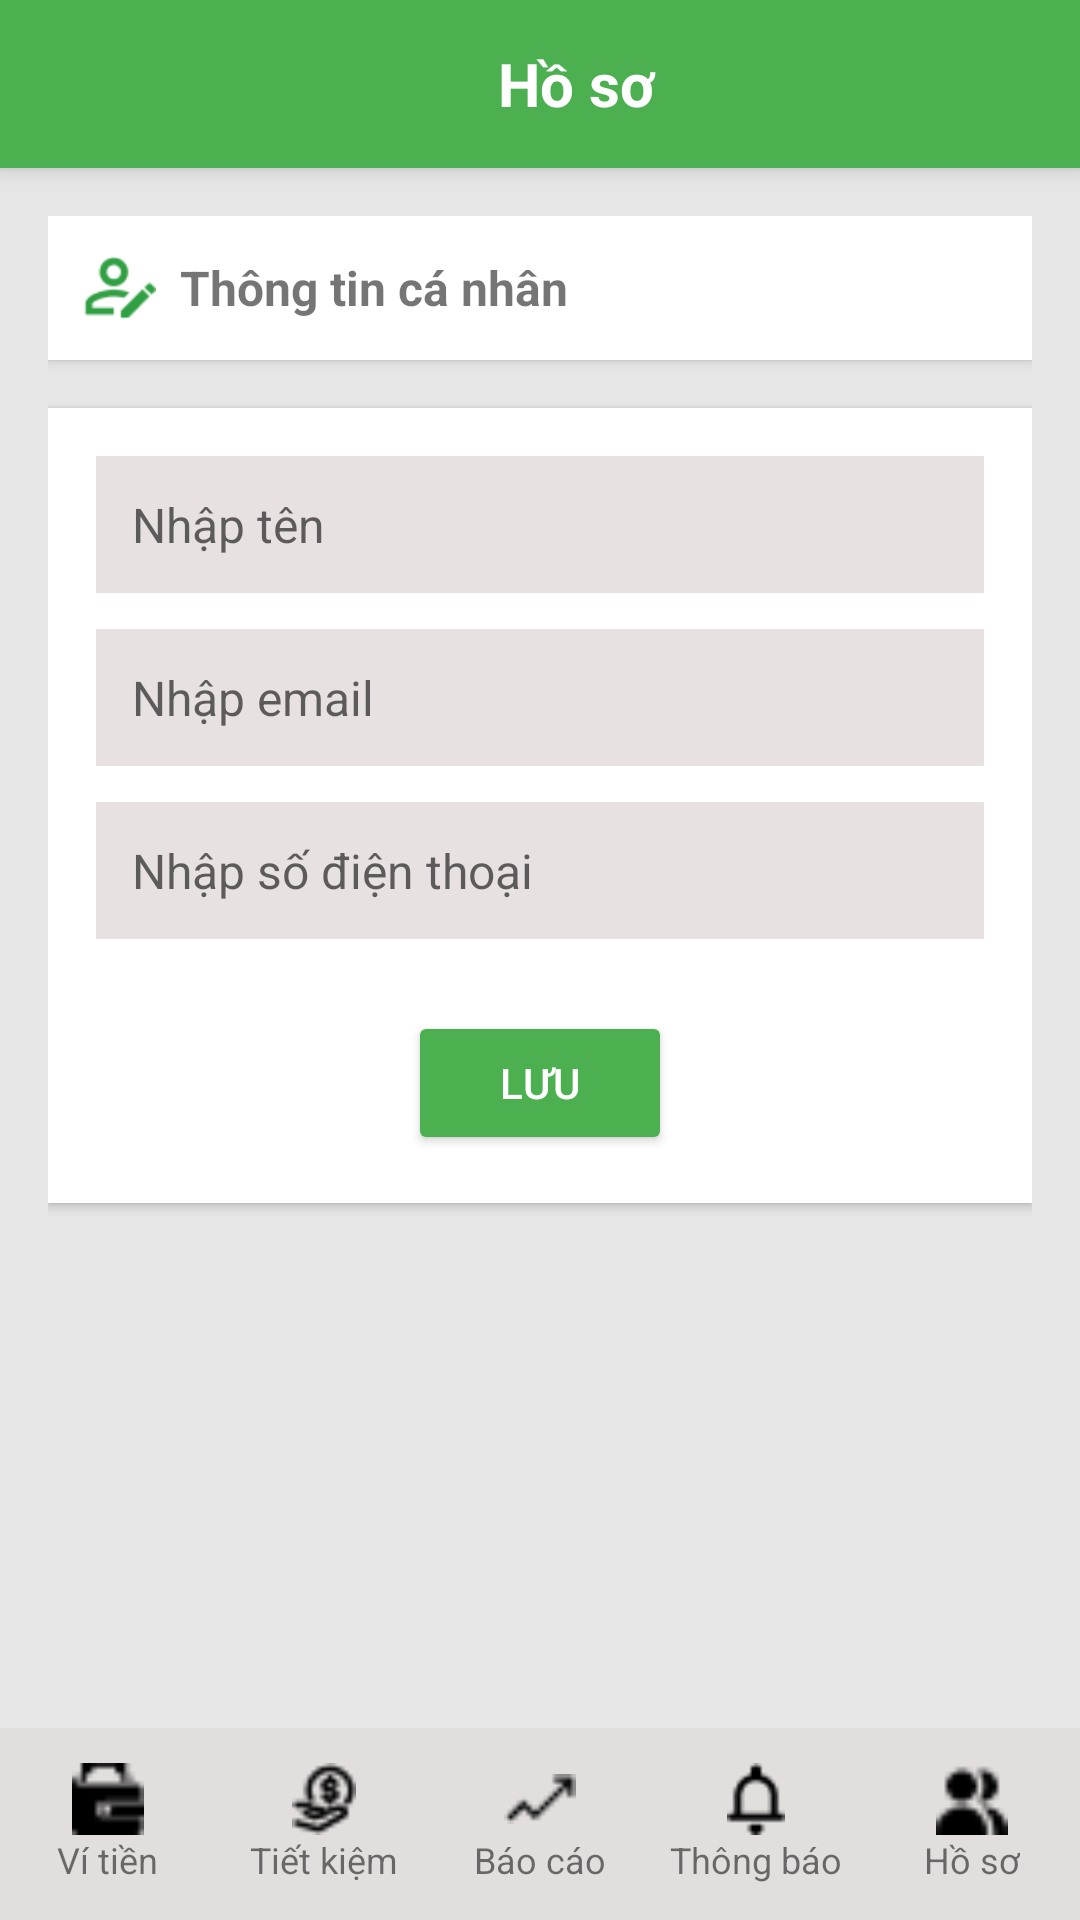

Named icons in this screenshot (1080px x 1920px) and their centers, (x=x, y=y):
dieuchinh: (x=120, y=288)
